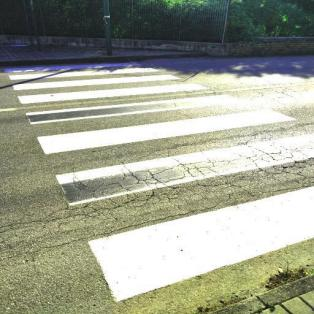Paso de Cebra: (18, 92, 303, 156)
